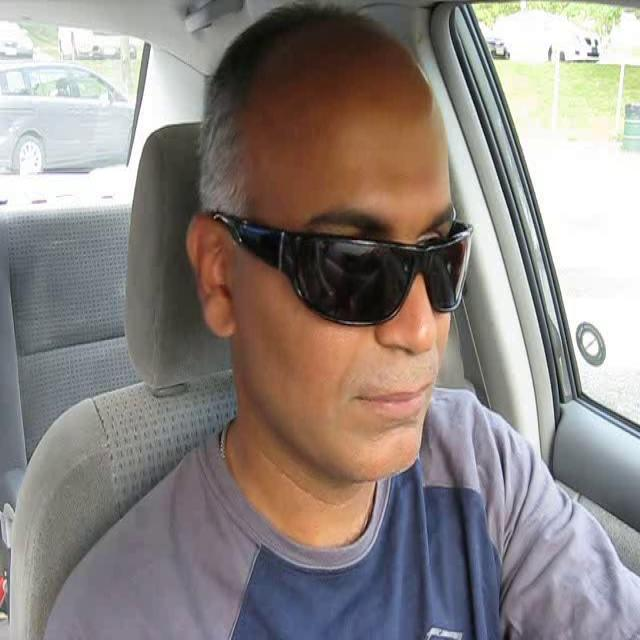close: (350, 381, 436, 425)
